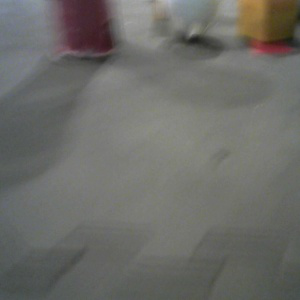middle: (54, 1, 118, 59)
